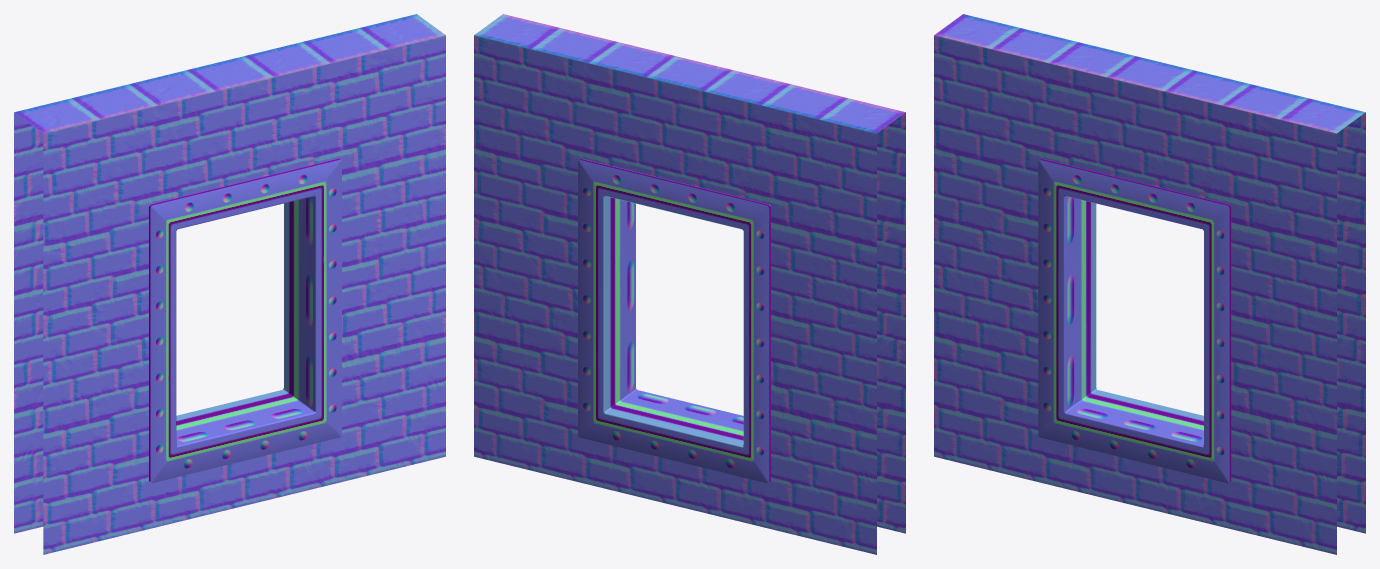
File: sm_wall_straight_14.fbx
3 renders of one model, left to right at view 1: azimuth 30°, elevation 25°; view 2: azimuth 150°, elevation 25°; view 3: azimuth 330°, elevation 25°, orthographic.
Visible parts, largest first — view 1: sm_wall_straight_14; view 2: sm_wall_straight_14; view 3: sm_wall_straight_14.
Boxes of the visible parts, x1,y1,x2,y2 form: sm_wall_straight_14: (14,14,445,554); sm_wall_straight_14: (474,14,905,554); sm_wall_straight_14: (934,14,1365,554).
Bounding box in the file's own units: 400 × 400 × 55.8.
Materials: 1 (1 with a texture image).
